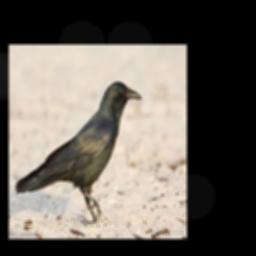Crow: (14, 79, 143, 222)
